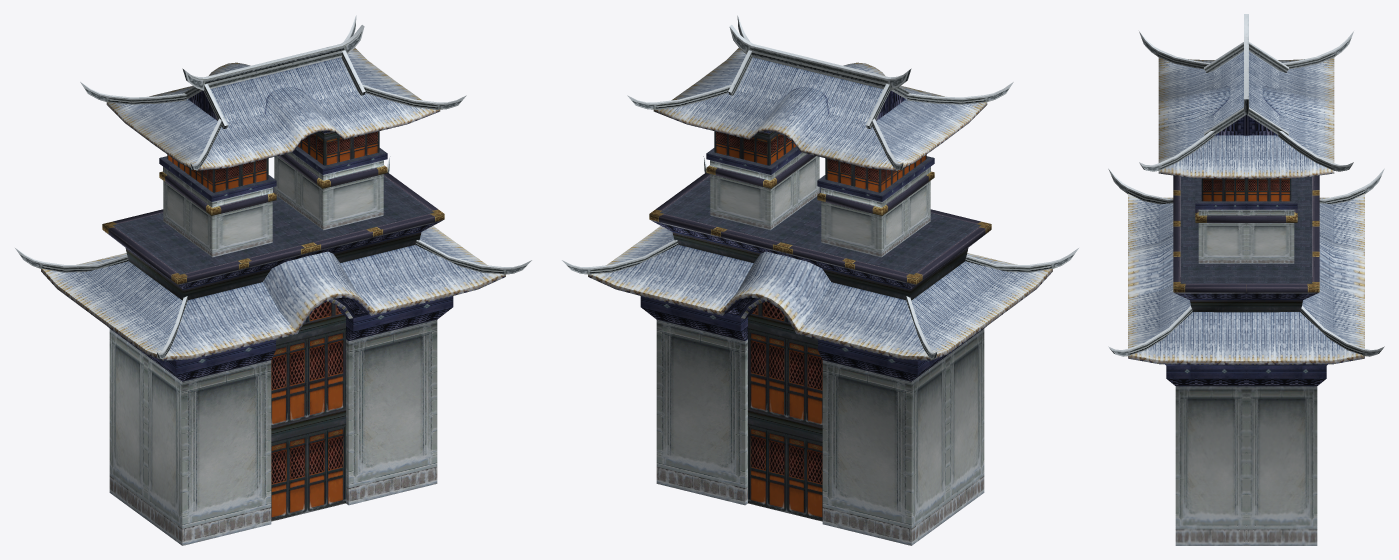
Rendered from jz_louge_01.FBX.
3 renders of one model, left to right at view 1: azimuth 30°, elevation 25°; view 2: azimuth 150°, elevation 25°; view 3: azimuth 270°, elevation 25°, orthographic. The views are drawn at different scales.
Visible parts, largest first — view 1: jz_louge_01; view 2: jz_louge_01; view 3: jz_louge_01.
Part boxes in pixels (x1,y1,x2,y2): jz_louge_01: [15, 15, 531, 545]; jz_louge_01: [562, 15, 1078, 545]; jz_louge_01: [1108, 14, 1384, 545].
Size of the model in its own units: 3774 by 4230 by 2476.
